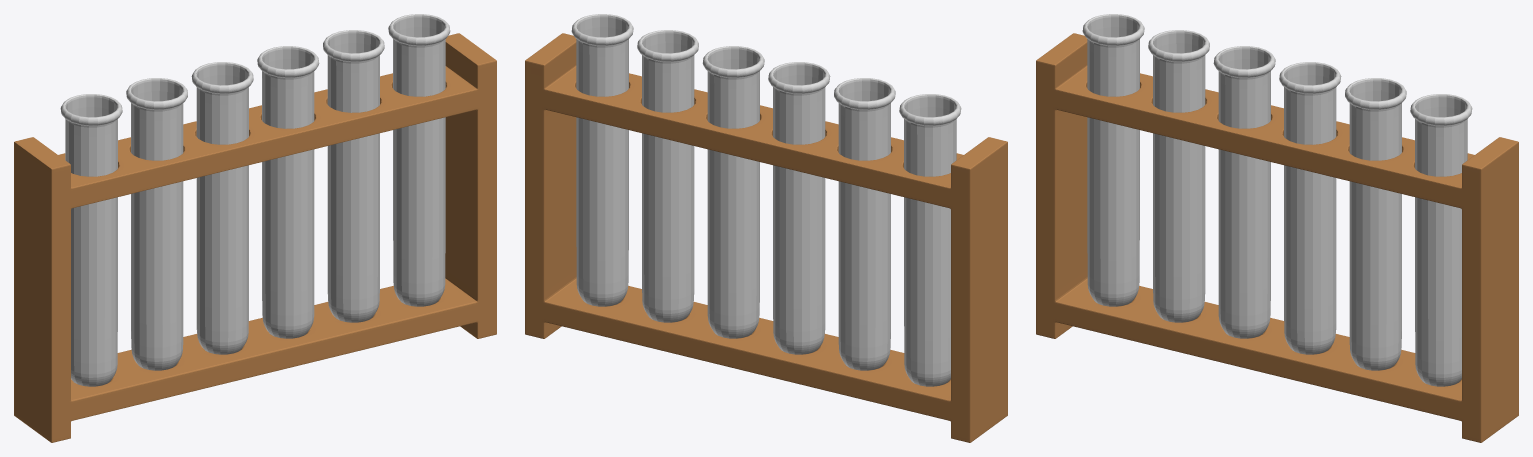
Rendered from full-test-tube-rack.glb.
The picture shows the model from 3 angles, left to right: view 1: azimuth 30°, elevation 25°; view 2: azimuth 150°, elevation 25°; view 3: azimuth 330°, elevation 25°; orthographic projection.
Parts seen in each view (by area): view 1: testTubeRack; view 2: testTubeRack; view 3: testTubeRack.
Boxes of the visible parts, <box> form: testTubeRack: <box>14,14,496,442</box>; testTubeRack: <box>525,14,1007,442</box>; testTubeRack: <box>1036,14,1518,442</box>.
Size of the model in its own units: 0.272 by 0.1805 by 0.04.
